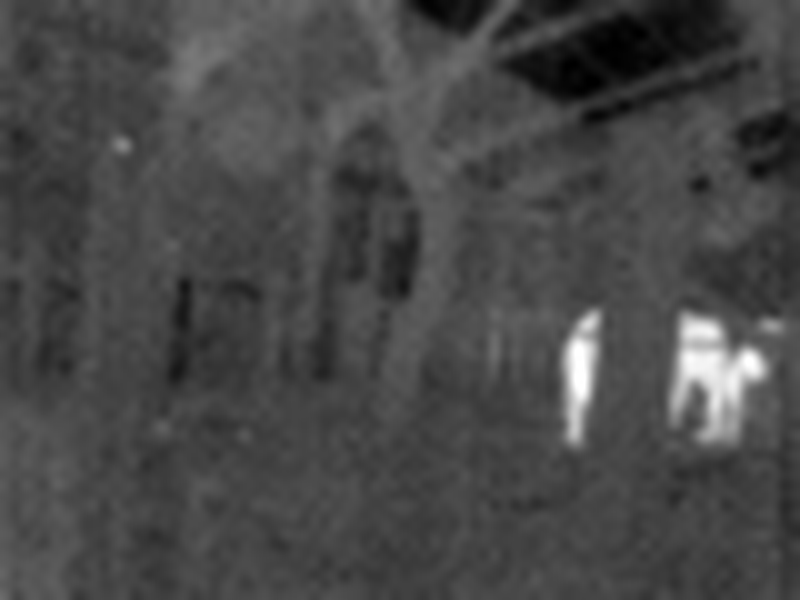elephant: (549, 284, 757, 467)
